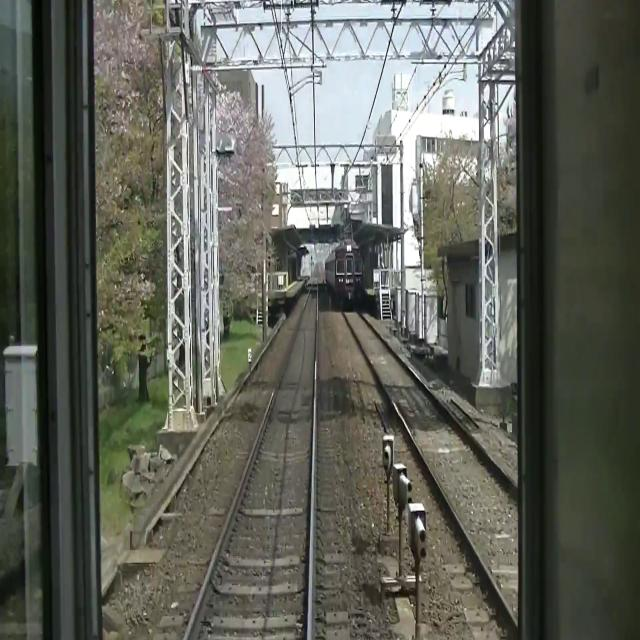rail-track: (344, 310, 516, 615), (192, 279, 316, 639)
